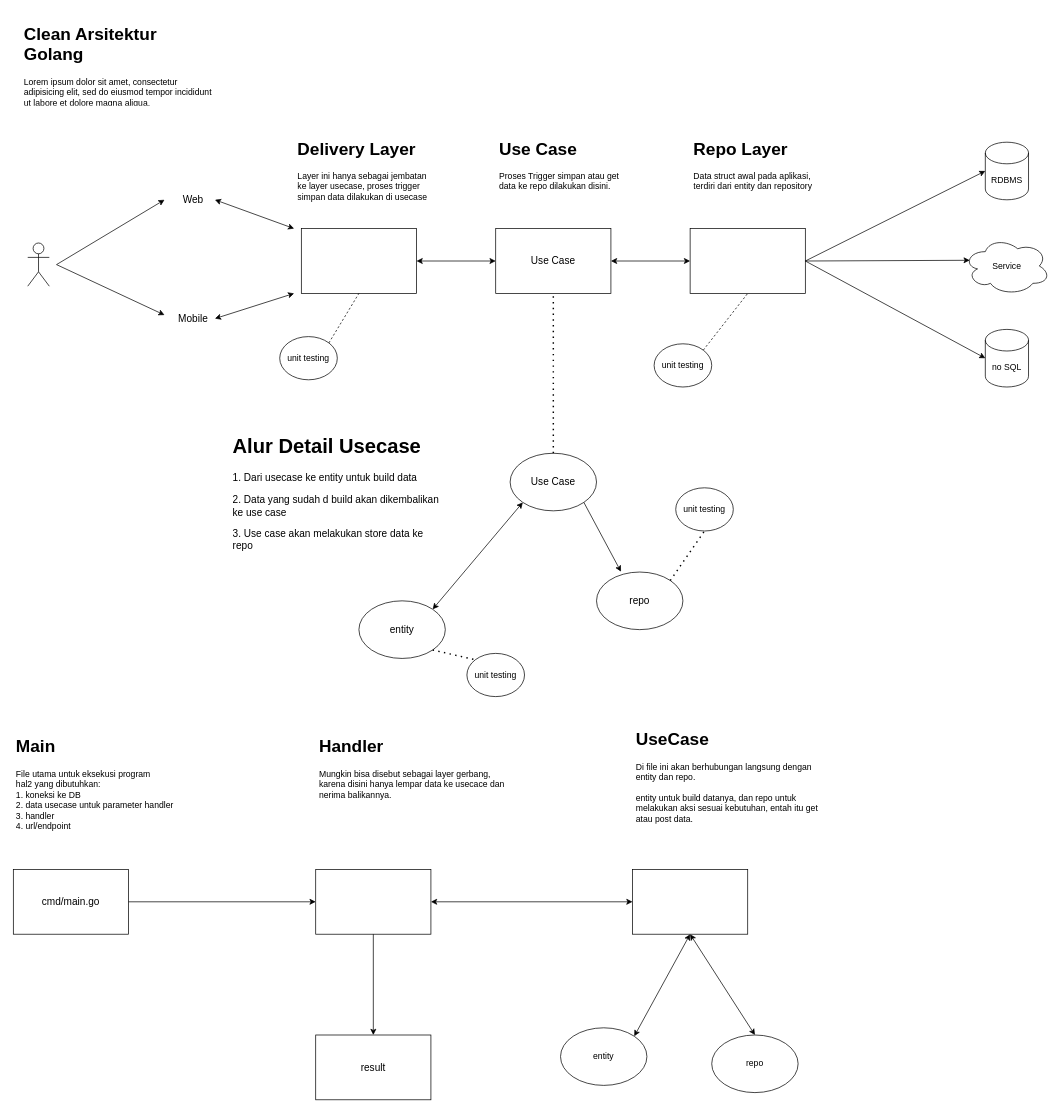
Image size: 1063x1112. Some labels were removed from this diagram. Here are the shapes that lost their labels. From the top down, the box of each, then its label:
(27, 242, 49, 286): User
(301, 228, 417, 293): Delivery Layer
(689, 228, 805, 293): Repo Layer
(315, 869, 431, 934): internal/delivery/http/...
(632, 869, 748, 934): internal/usecase/...
